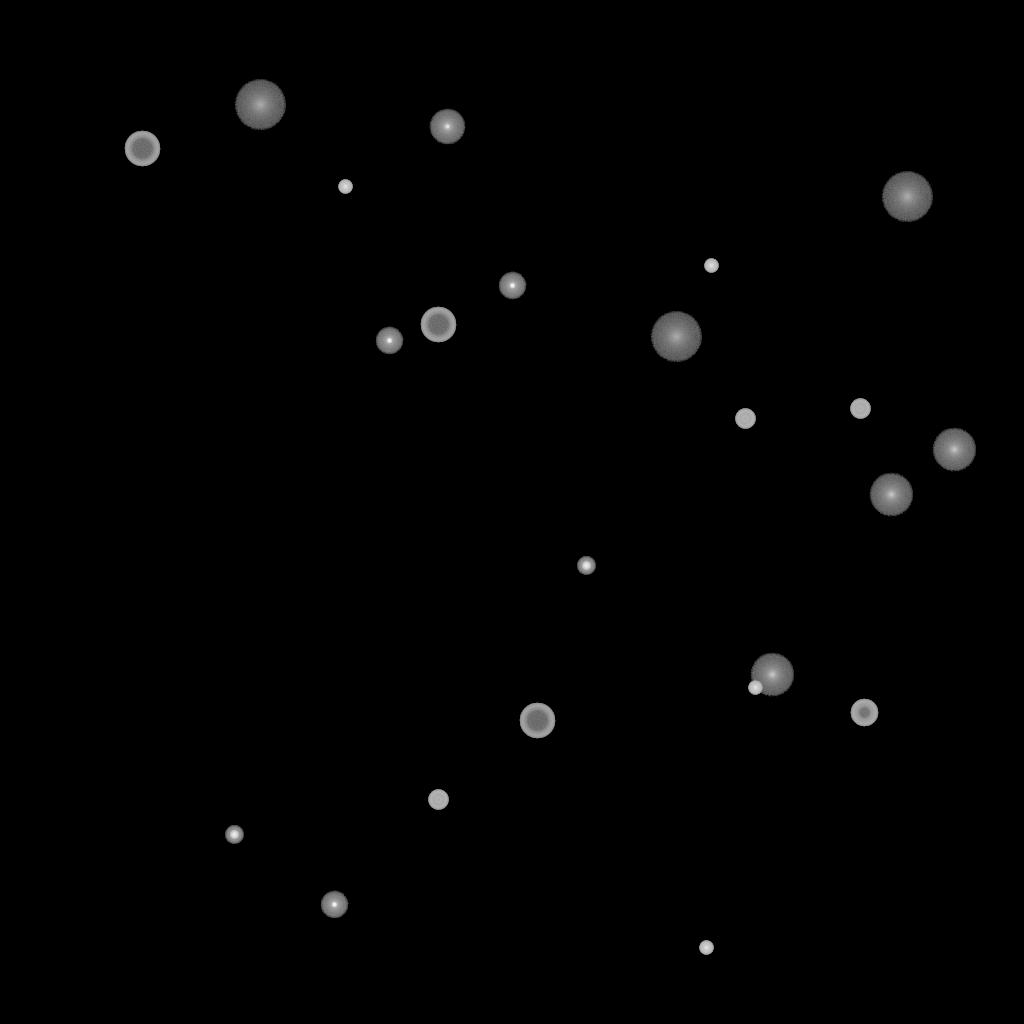depth:-10: (498, 272, 526, 300), (375, 327, 403, 355), (320, 891, 348, 919)
depth:-20: (225, 826, 243, 844), (577, 557, 595, 575)
depth:-30: (748, 681, 762, 695), (704, 259, 718, 273), (699, 941, 713, 955), (338, 180, 352, 194)
depth:-40: (428, 790, 448, 810), (735, 409, 755, 429), (850, 399, 870, 419)
depth:-50: (850, 699, 878, 727)
depth:-60: (420, 307, 456, 343), (519, 703, 555, 739), (124, 131, 160, 167)
depth:0: (429, 109, 465, 145)
depth:10: (750, 653, 794, 697), (932, 428, 976, 472), (869, 473, 913, 517)
depth:20: (234, 80, 286, 130), (881, 172, 933, 222), (650, 312, 702, 362)
